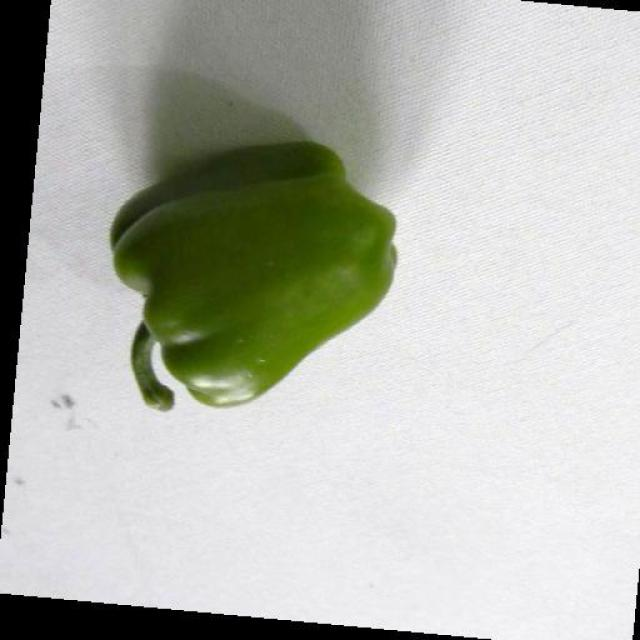Fresh_Capsicum: (99, 220, 439, 376)
